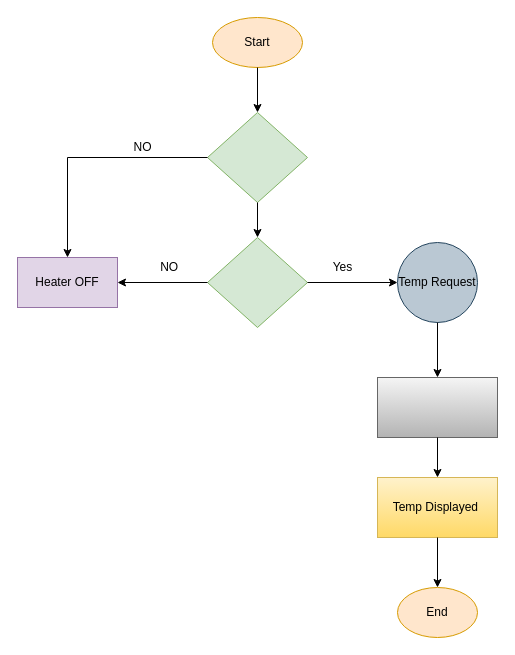
Image size: 515x655. Some labels were removed from this diagram. Each missing label, with the box of its shape:
If Person Exits..?: (206, 112, 308, 202)
Required Temp Obtain: (376, 376, 498, 438)
Temp Nobe ON or OFF: (206, 236, 308, 328)
